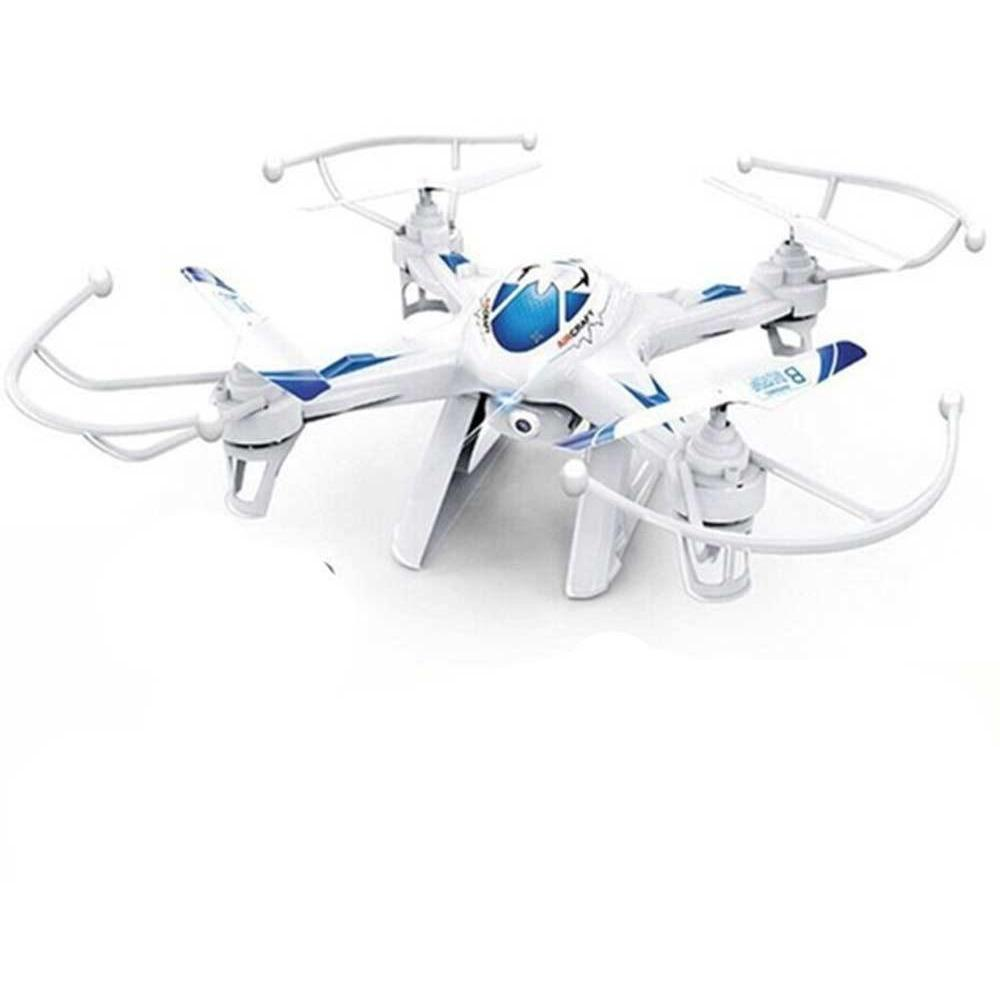drone: (26, 102, 1000, 628)
